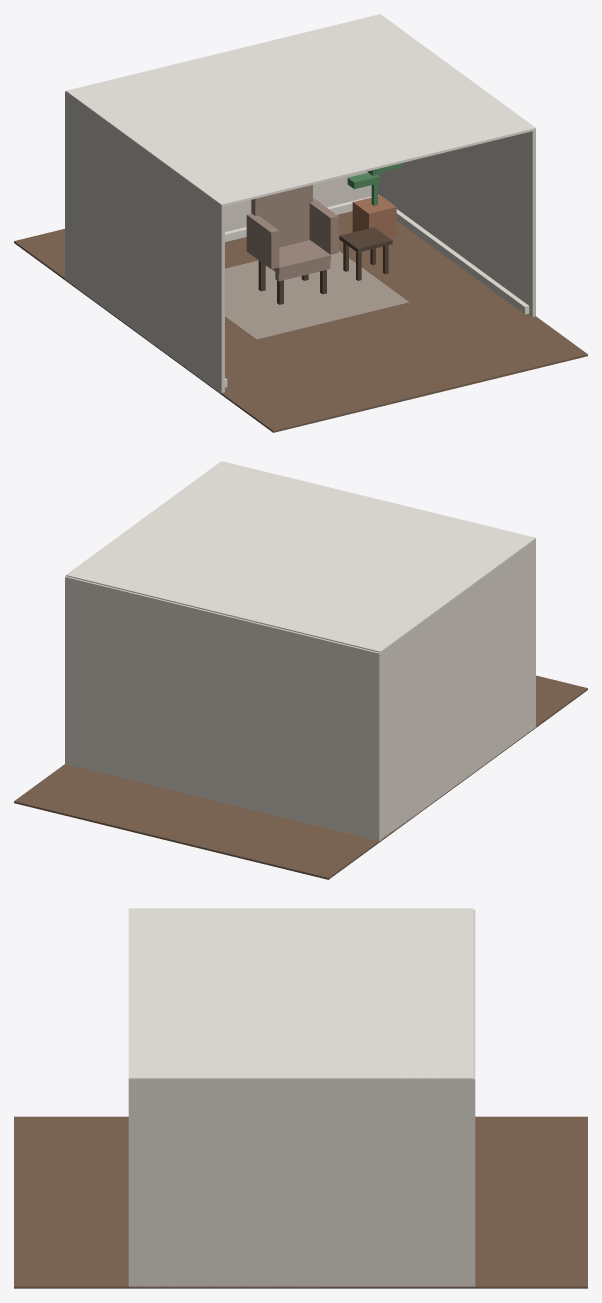
File: celine_room_v80.gltf
3 views of the same model, one above another, from view 1: azimuth 30°, elevation 25°; view 2: azimuth 150°, elevation 25°; view 3: azimuth 270°, elevation 25° (orthographic). The views are drawn at different scales.
Visible parts, largest first — view 1: Ceiling, Floor, LeftWall, RightWall, AreaRug, ChairBack, BackWall, RightBaseboard, ChairArmLeft, PlantPot, ChairArmRight, ChairSeat (+1 smaller); view 2: BackWall, Ceiling, LeftWall, Floor; view 3: RightWall, Ceiling, Floor, BackWall.
Boxes of the visible parts, x1,y1,x2,y2 form: Ceiling: (66, 14, 535, 206); Floor: (14, 211, 587, 432); LeftWall: (67, 93, 224, 393); RightWall: (378, 129, 535, 316); AreaRug: (225, 246, 408, 339); ChairBack: (251, 185, 312, 247); BackWall: (65, 91, 371, 280); RightBaseboard: (396, 209, 529, 314); ChairArmLeft: (246, 213, 279, 269); PlantPot: (352, 195, 396, 238); ChairArmRight: (309, 198, 338, 254); ChairSeat: (272, 240, 330, 274); BackWall: (65, 576, 381, 841); Ceiling: (66, 461, 535, 652); LeftWall: (381, 539, 535, 839); Floor: (14, 675, 587, 879); RightWall: (128, 1079, 473, 1287); Ceiling: (128, 908, 473, 1080); Floor: (14, 1116, 587, 1288); BackWall: (471, 909, 475, 1286).
Bounding box in the file's own units: 7 × 4.04 × 10.
